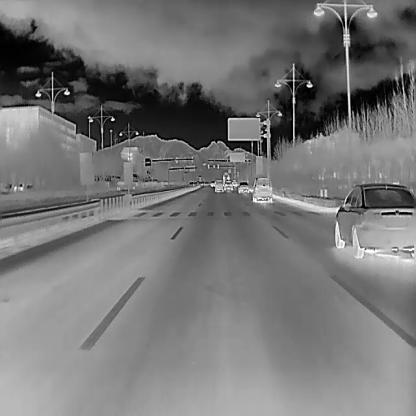car: (334, 183, 416, 258), (252, 177, 272, 202), (237, 180, 249, 194), (213, 180, 223, 192), (224, 179, 233, 191), (231, 177, 237, 185), (209, 179, 215, 187), (188, 180, 194, 186), (195, 178, 200, 184), (203, 180, 208, 184)
truck: (222, 171, 229, 182)
